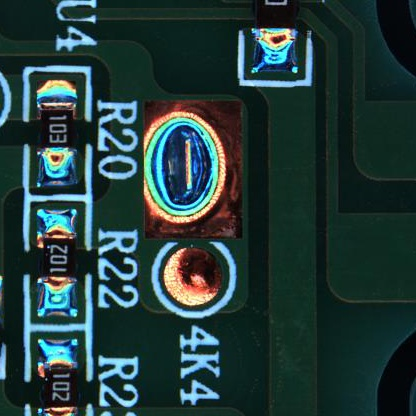spot: (160, 241, 225, 311)
